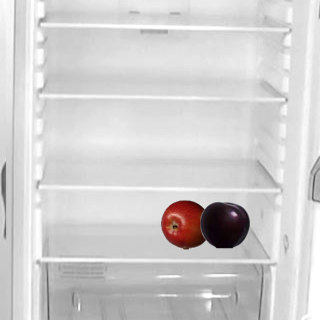Apple Braeburn: (160, 199, 210, 249)
Cherry Wax Black: (199, 199, 249, 249)
